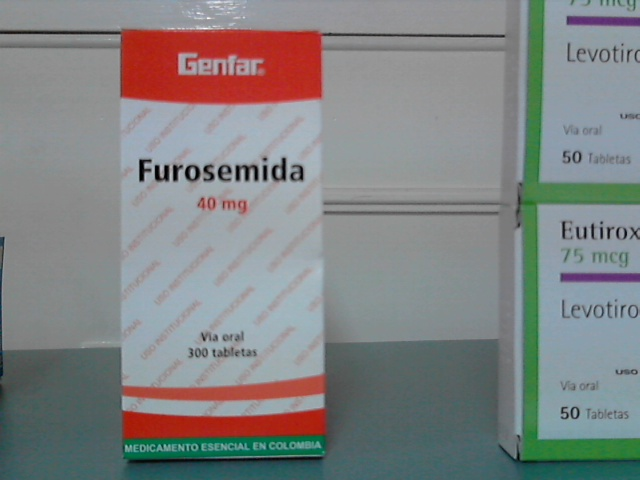Genfar: (121, 30, 326, 456)
